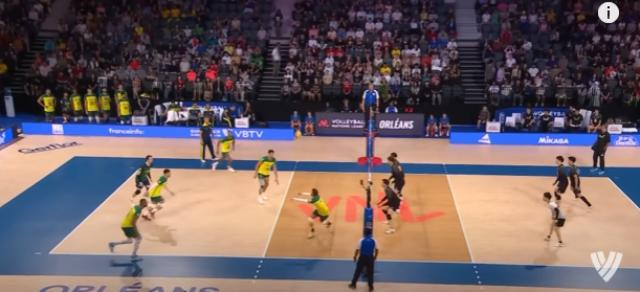Levantador: (290, 185, 340, 241), (392, 148, 401, 163)
Libero: (536, 190, 574, 252), (128, 146, 158, 200)
bola: (292, 128, 302, 140)
